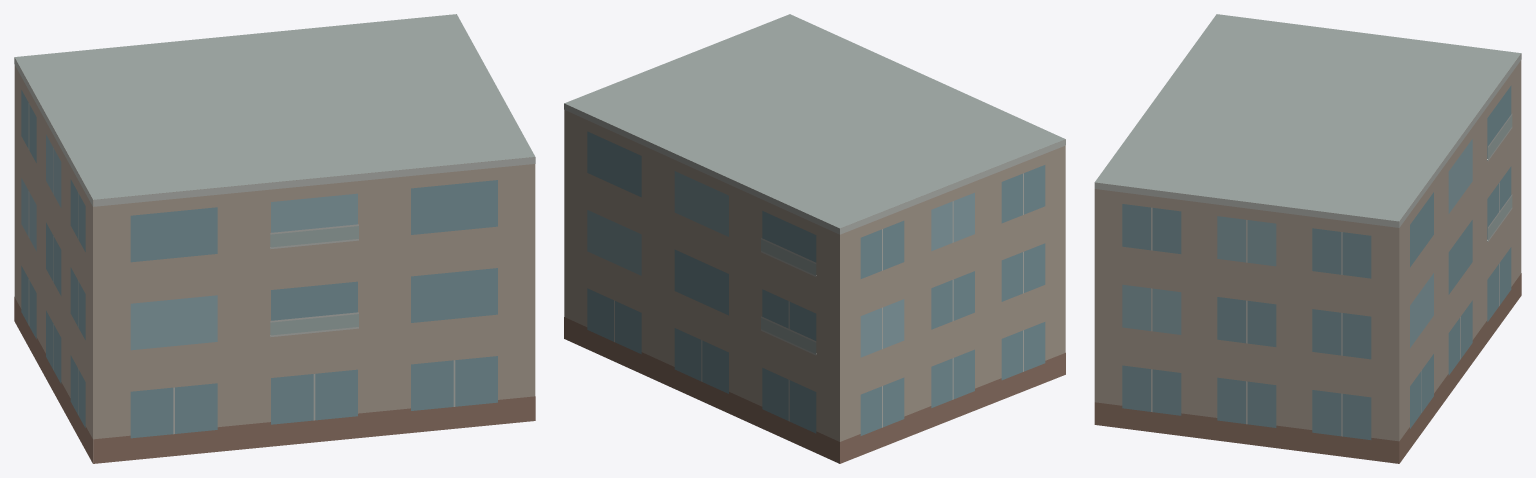
Rendered from survey-upis-32708085.glb.
3 renders of one model, left to right at view 1: azimuth 30°, elevation 25°; view 2: azimuth 150°, elevation 25°; view 3: azimuth 270°, elevation 25°, orthographic. The views are drawn at different scales.
Parts seen in each view (by area): view 1: survey-upis-32708085.tmp; view 2: survey-upis-32708085.tmp; view 3: survey-upis-32708085.tmp.
Boxes of the visible parts, bbox=[...] form: survey-upis-32708085.tmp: bbox=[14, 14, 535, 463]; survey-upis-32708085.tmp: bbox=[564, 14, 1065, 463]; survey-upis-32708085.tmp: bbox=[1094, 14, 1521, 463].
Bounding box in the file's own units: 16.81 × 9.15 × 14.62.
